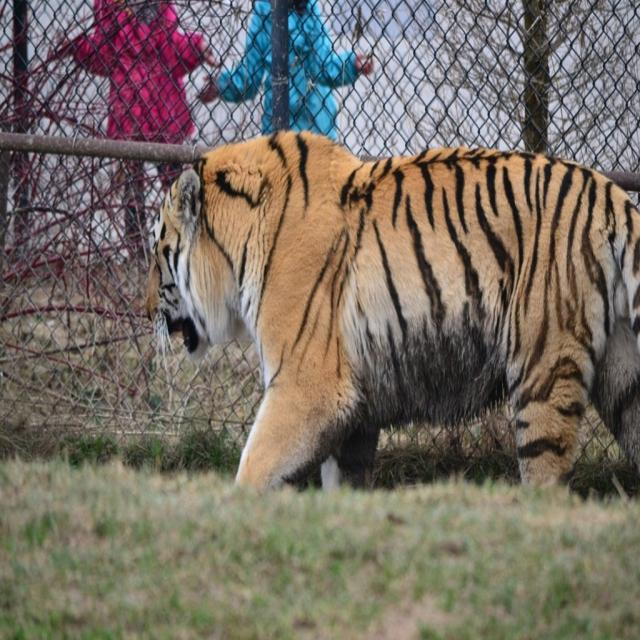Tiger: (145, 128, 640, 489)
